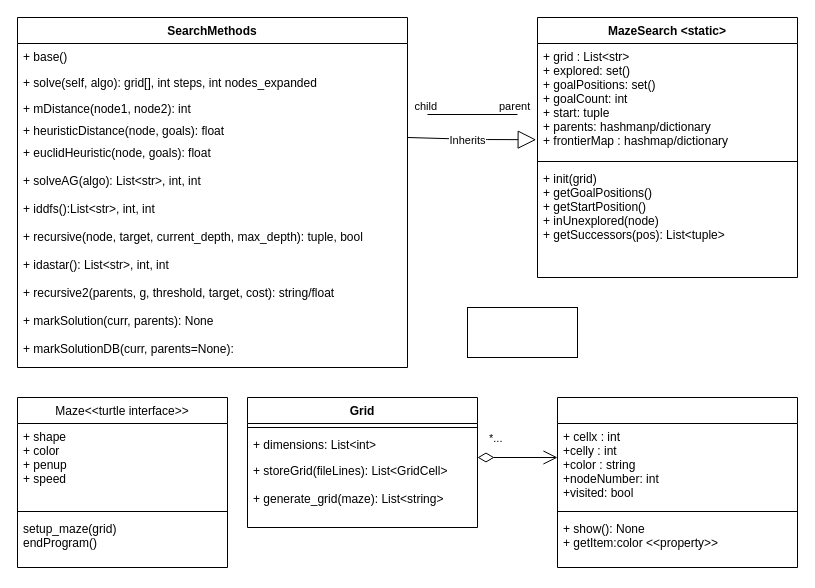
Image size: 815x588. Some labels were removed from this diagram. Each missing label, with the box of its shape:
GirdCell: (556, 396, 798, 568)
«enumeration» Algo: (466, 306, 578, 358)
